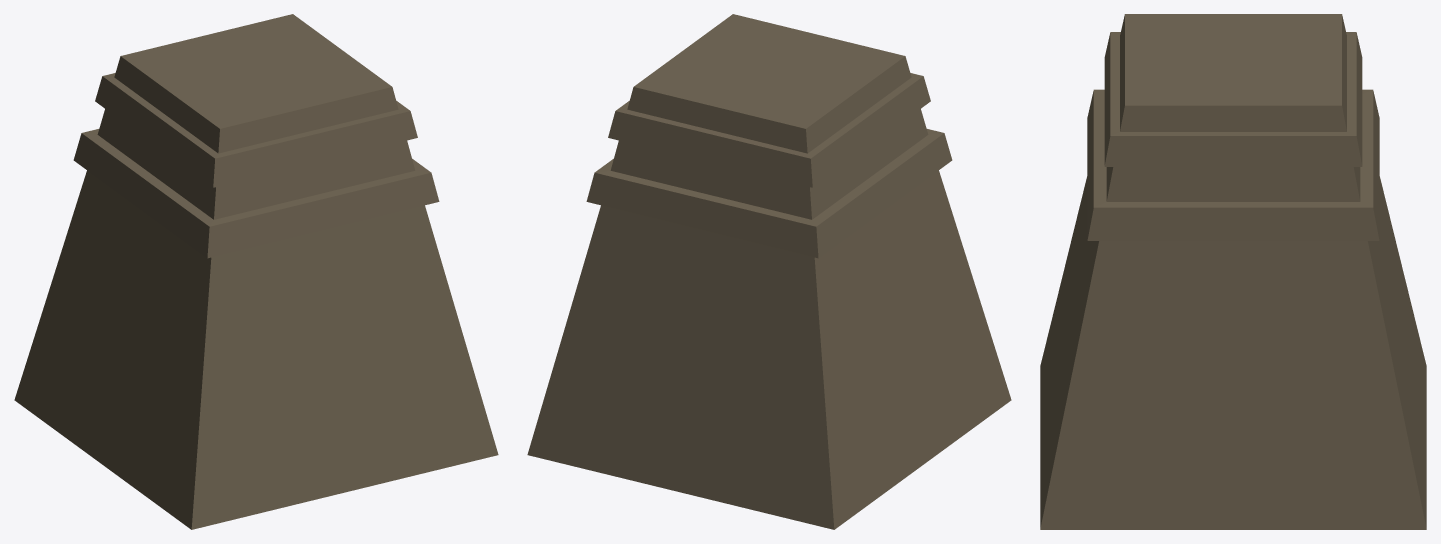
Rendered from Tapnaktest.fbx.
The picture shows the model from 3 angles, left to right: view 1: azimuth 30°, elevation 25°; view 2: azimuth 150°, elevation 25°; view 3: azimuth 270°, elevation 25°; orthographic projection. The views are drawn at different scales.
Visible parts, largest first — view 1: Cube.001; view 2: Cube.001; view 3: Cube.001.
Boxes of the visible parts, <box> form: Cube.001: <box>14,14,498,529</box>; Cube.001: <box>527,14,1011,529</box>; Cube.001: <box>1040,14,1426,529</box>.
Bounding box in the file's own units: 3.82 × 4.23 × 3.82.
